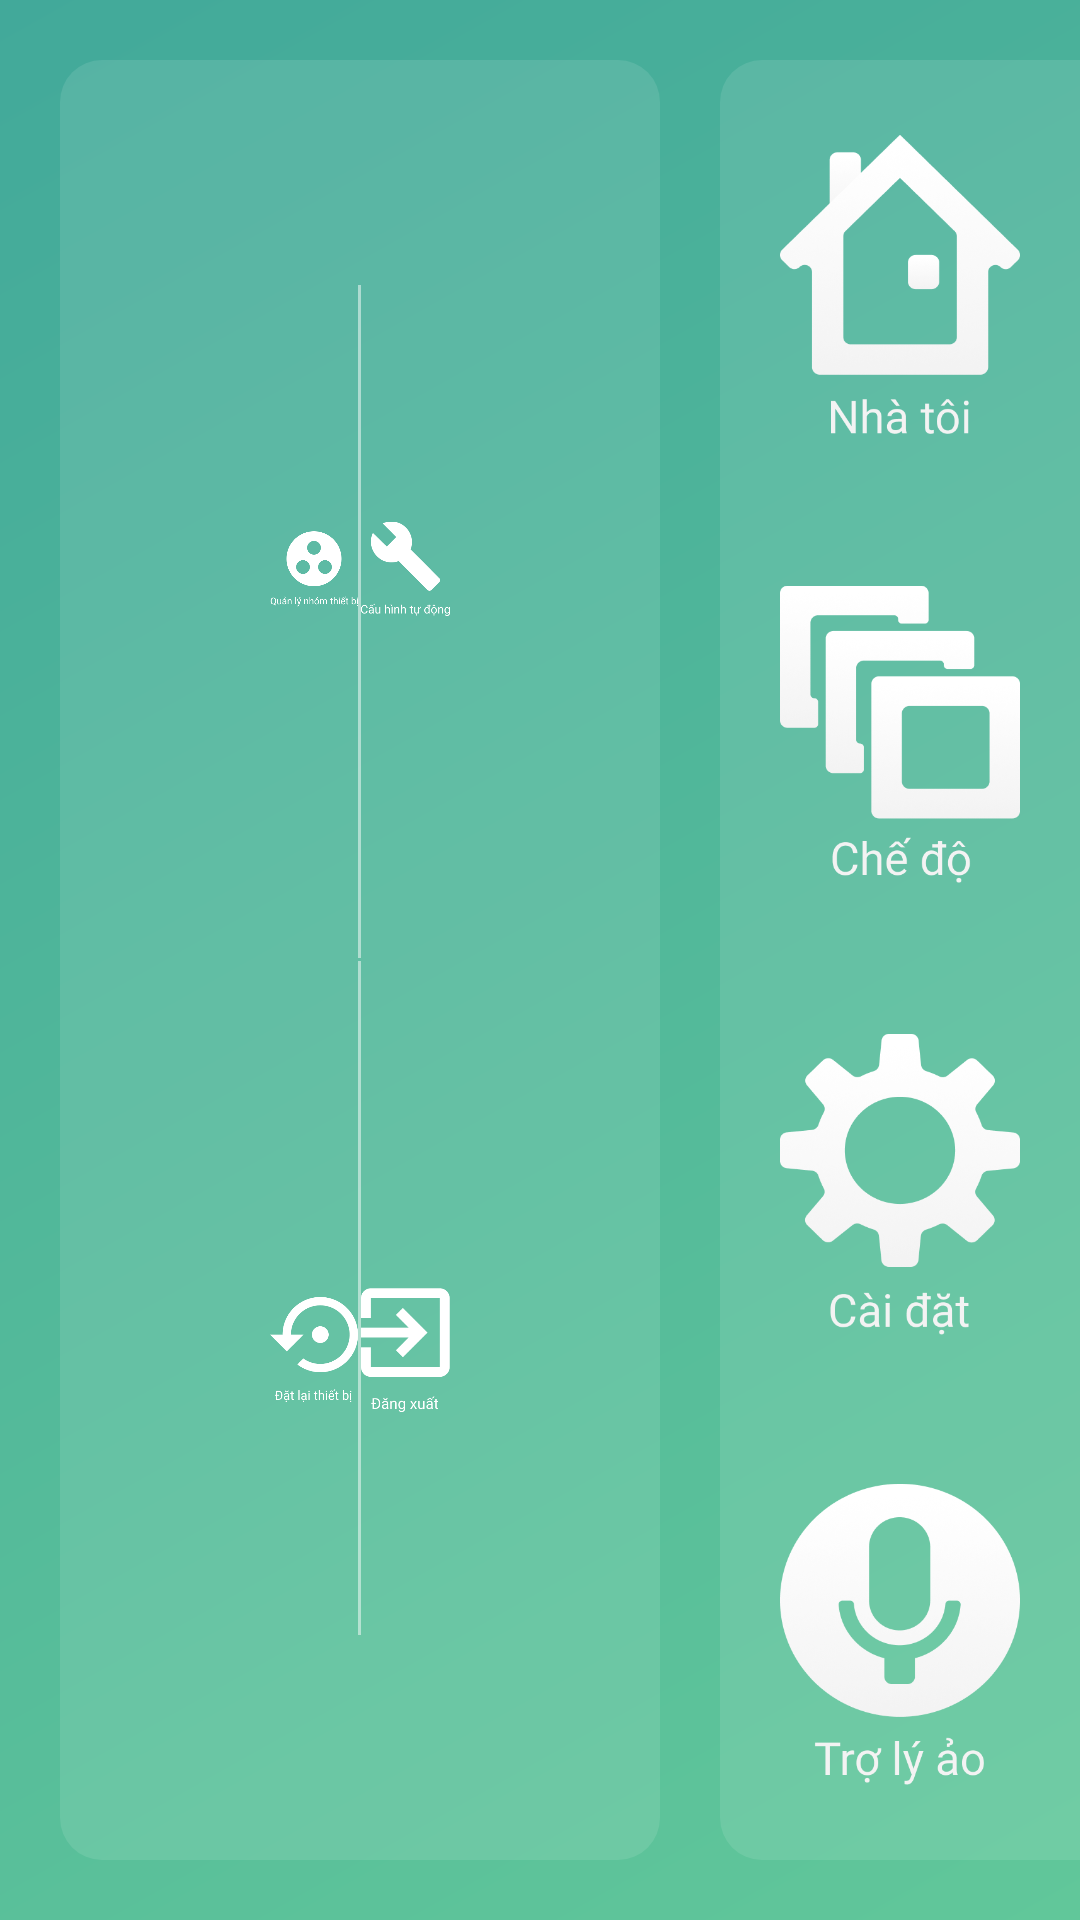

Icon bounding boxes for this 1080*1920 phone screenshot, format box=[x1, y1, x2, y2]:
network: box=[270, 531, 356, 607]
refresh: box=[270, 1297, 358, 1402]
voice: box=[780, 1484, 1020, 1785]
wrench: box=[369, 522, 450, 616]
